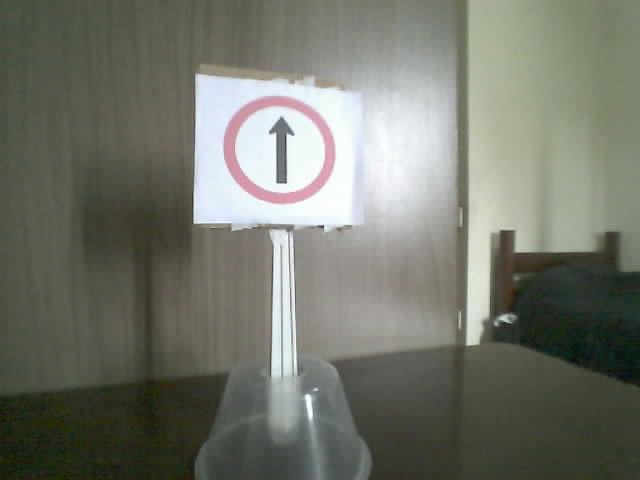R-26_frente: (223, 94, 335, 206)
